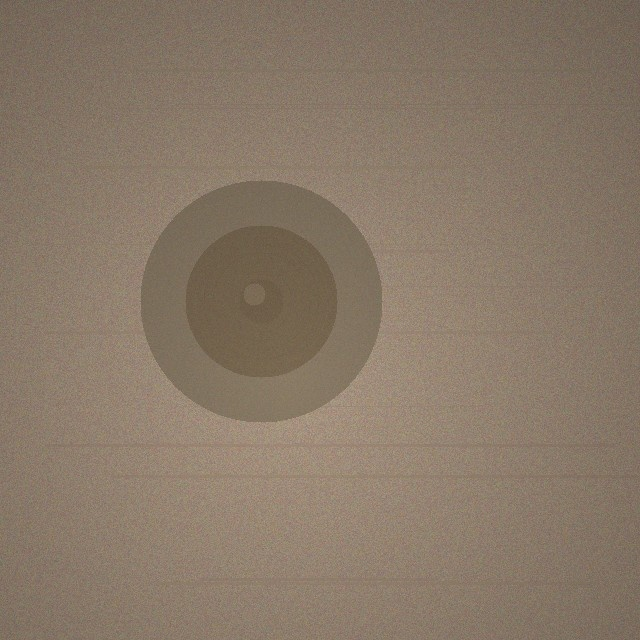good: (140, 180, 382, 422)
